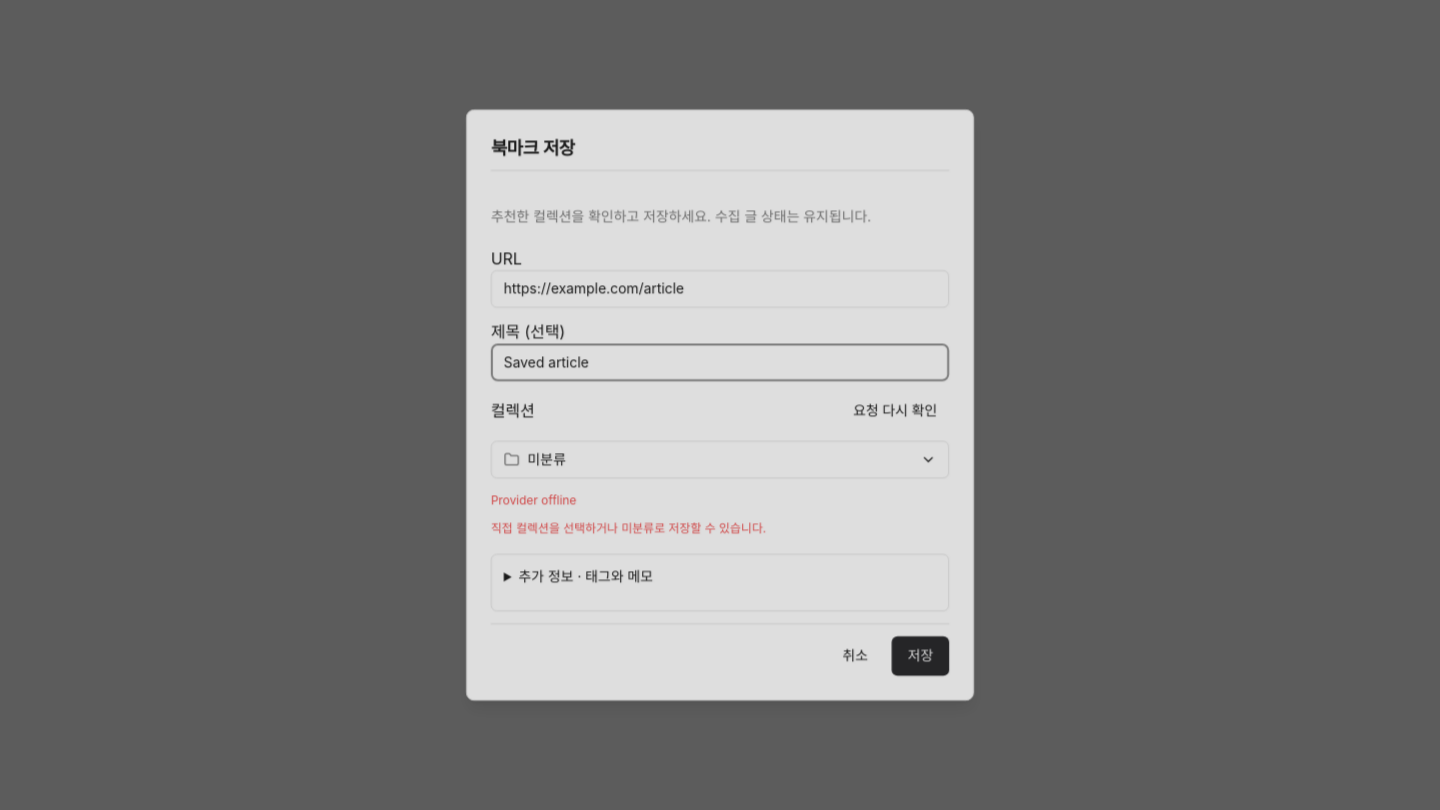
Test: bookmark save form › restarts a failed recommendation request from the form
Expected: the message shows "Provider offline", [490, 493, 576, 508]
Click the button "요청 다시 확인".
click(896, 411)  # box [842, 393, 950, 429]
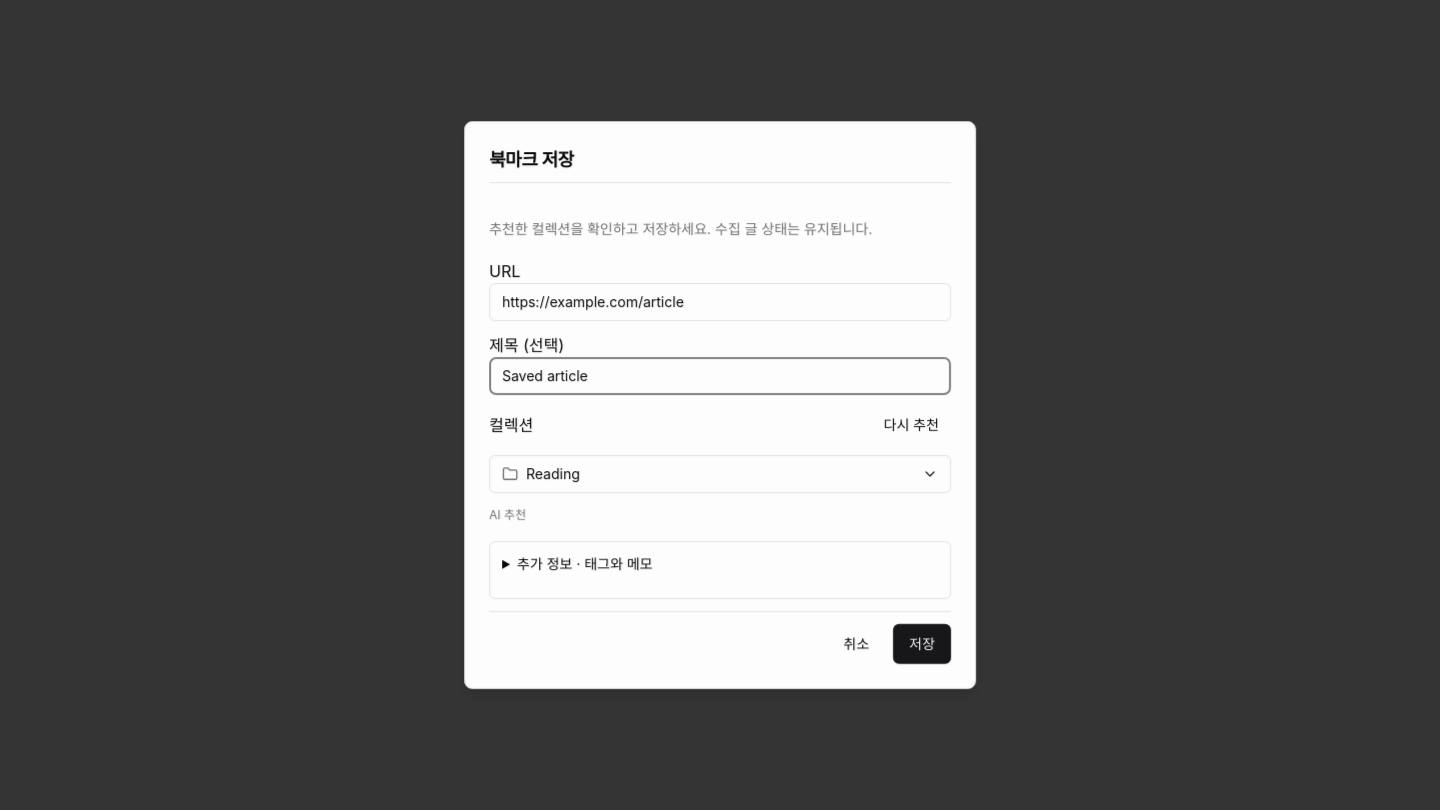
Expected: the text "AI 추천" is shown, [489, 507, 526, 522]
